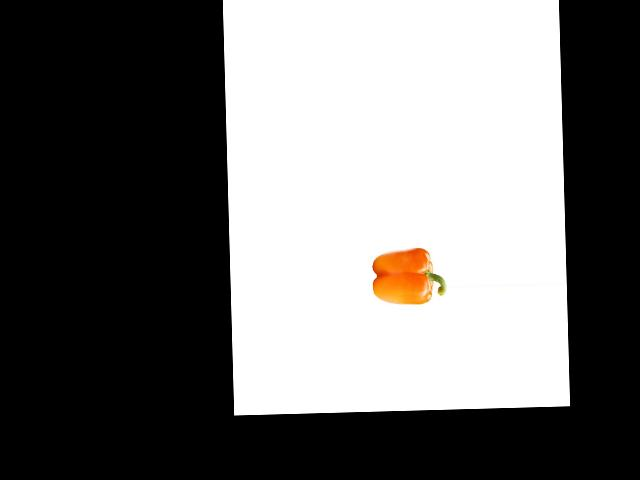bell_pepper: (371, 241, 446, 312)
